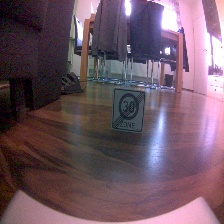dreisiger_zone_ende: (111, 86, 146, 135)
